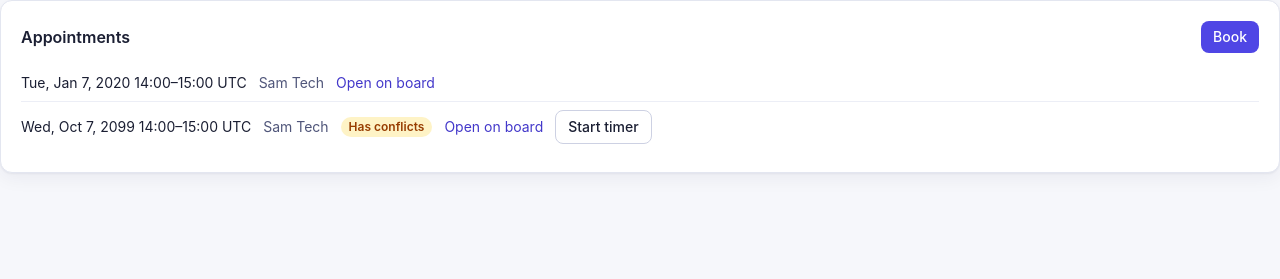
Test: ticket appointments card › Start timer posts the body, and a 409 shows its detail
Click the button "Start timer". click: (603, 127)
box: [555,110,652,144]
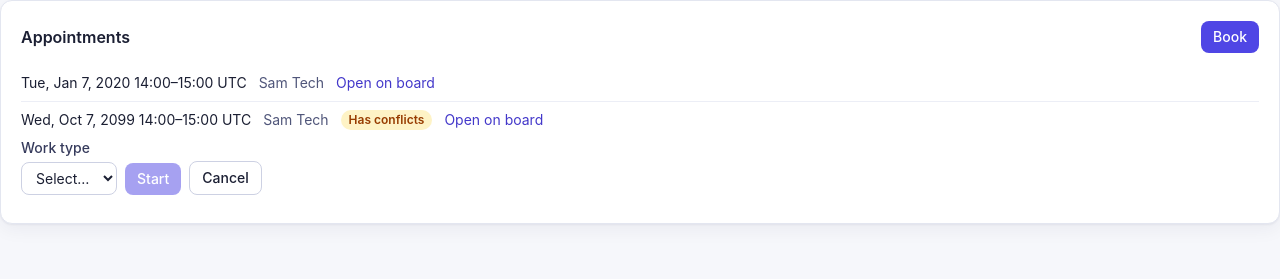
Check: the dropdown labelled "Work type" is shown
Select "Remote" in the dropdown labelled "Work type". click: (69, 178)
box: [21,162,117,195]
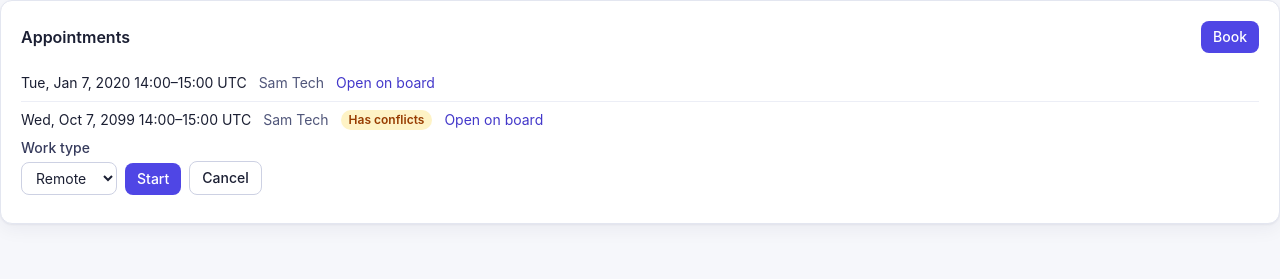
Click the button "Start". click: (153, 179)
box: [125,163,181,195]
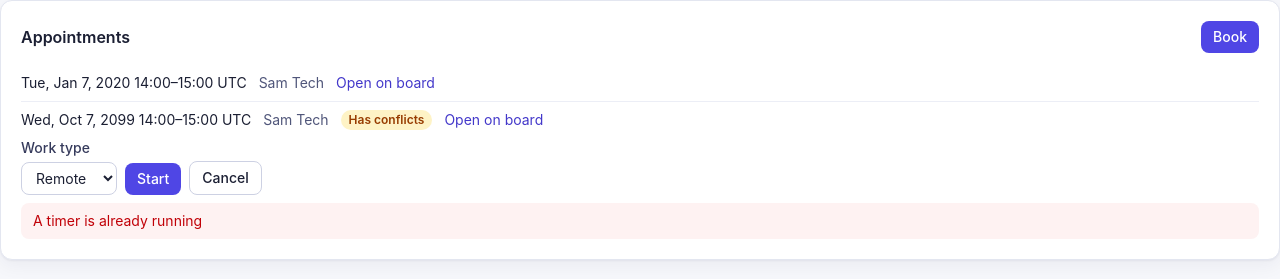
Check: the text "A timer is already running" is shown, box [21,203,1259,239]
Click the button "Start". click: (153, 179)
box: [125,163,181,195]
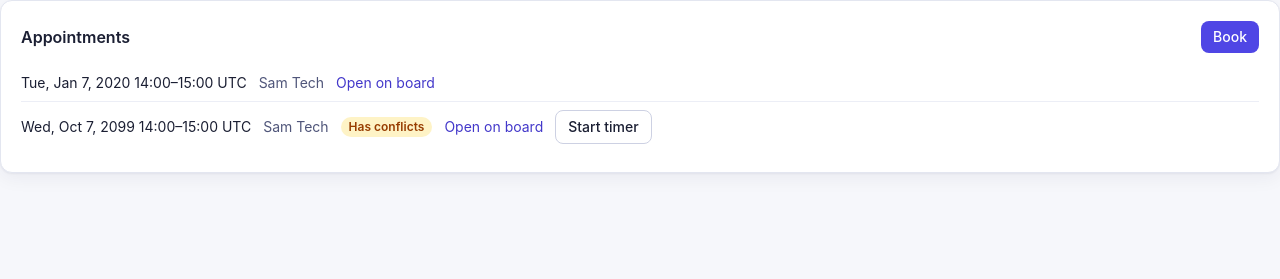
Check: the text labelled "Work type" is gone
